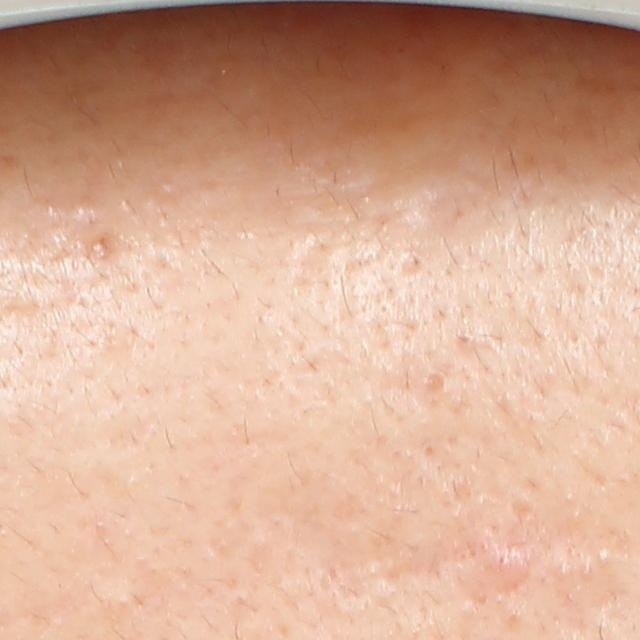comedo: (420, 371, 448, 399), (87, 234, 111, 260)
